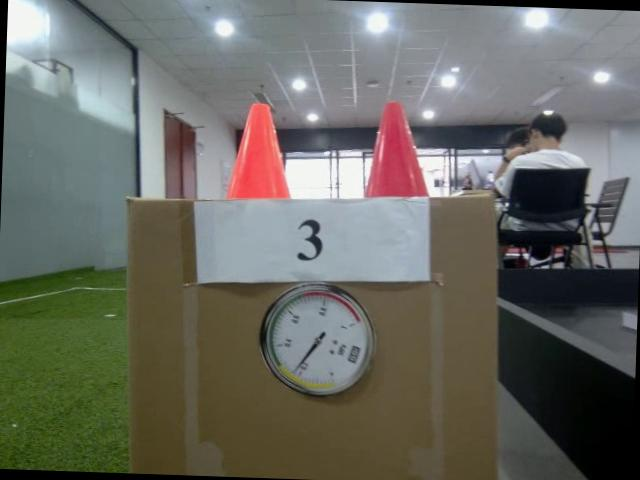3: (290, 216, 330, 262)
Dashboard: (258, 282, 380, 400)
orange_barrel: (224, 100, 294, 200)
red_barrel: (362, 102, 431, 199)
ssi: (346, 342, 361, 369)
